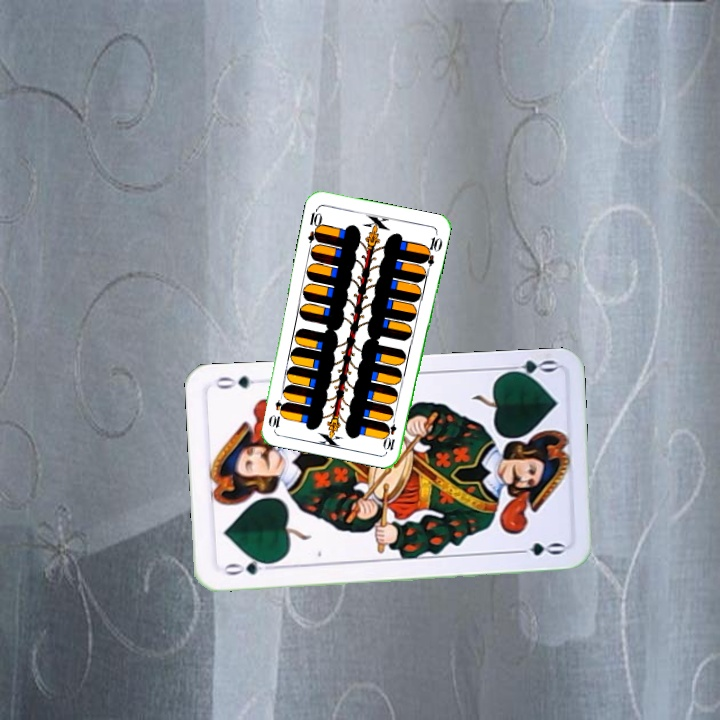E10: (304, 204, 325, 245), (381, 412, 399, 453)
GO: (499, 356, 558, 383), (218, 555, 277, 578)
